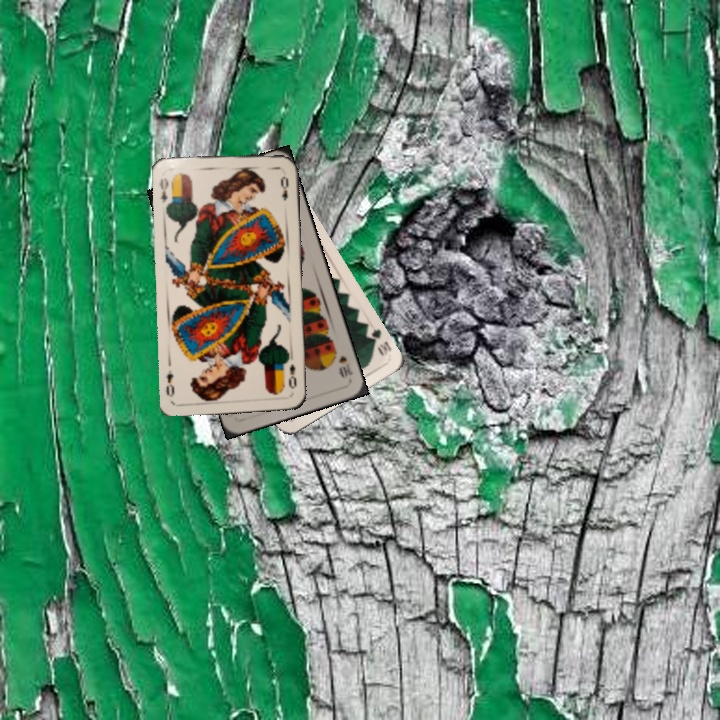EO: (155, 174, 171, 205), (285, 360, 299, 391)
G10: (362, 324, 394, 358)
S10: (334, 351, 356, 380)
